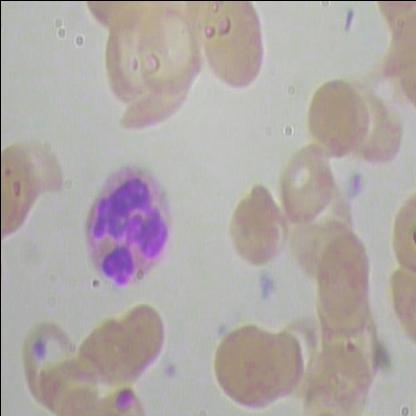Platelets: (113, 379, 135, 415), (254, 270, 278, 299), (346, 169, 368, 198), (31, 338, 44, 358)
RBC: (134, 1, 204, 105), (193, 1, 267, 92), (210, 320, 281, 414), (16, 318, 80, 415), (275, 141, 339, 229), (310, 233, 374, 320), (224, 179, 284, 270), (306, 80, 364, 164), (115, 301, 169, 382), (1, 144, 45, 243)
WBC: (68, 153, 184, 293)
